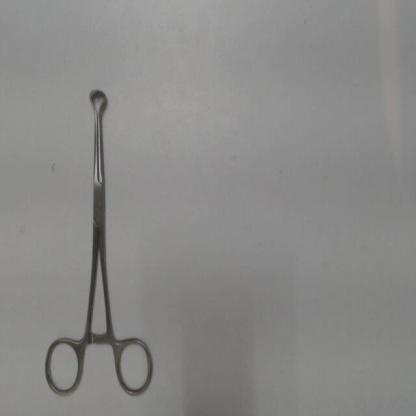Babcock Tissue Forceps: (42, 81, 156, 402)
